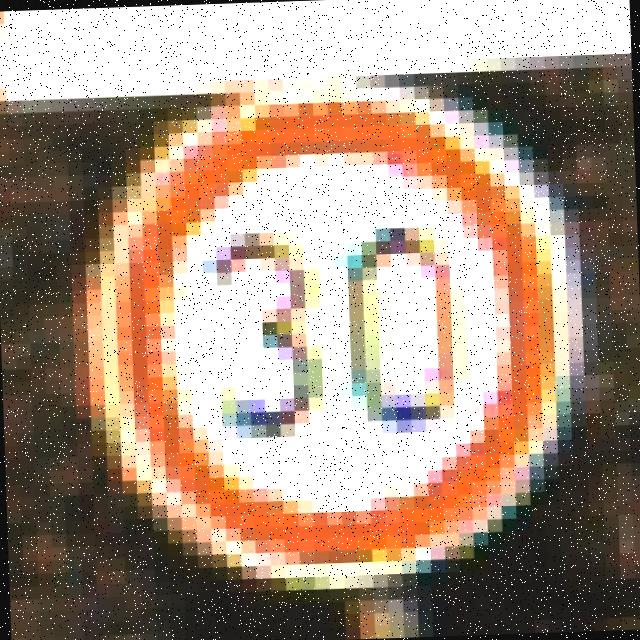Ograniczenie predkosci do 30: (93, 91, 584, 588)
